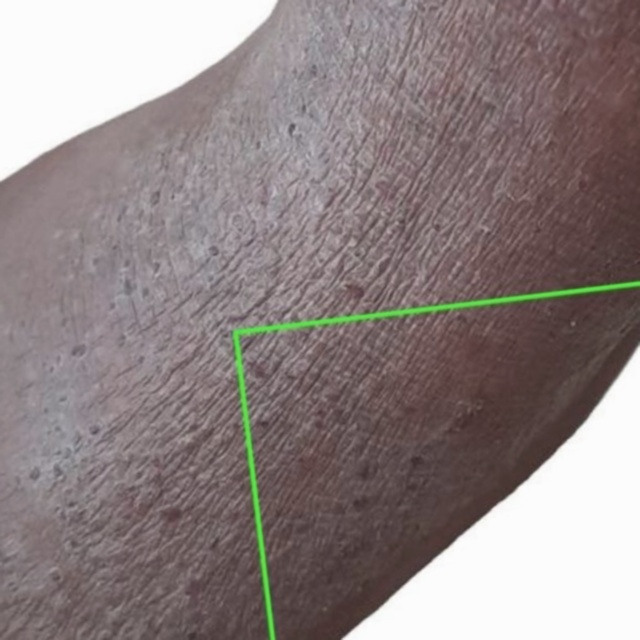Contact Dermatitis: (235, 283, 639, 639)
